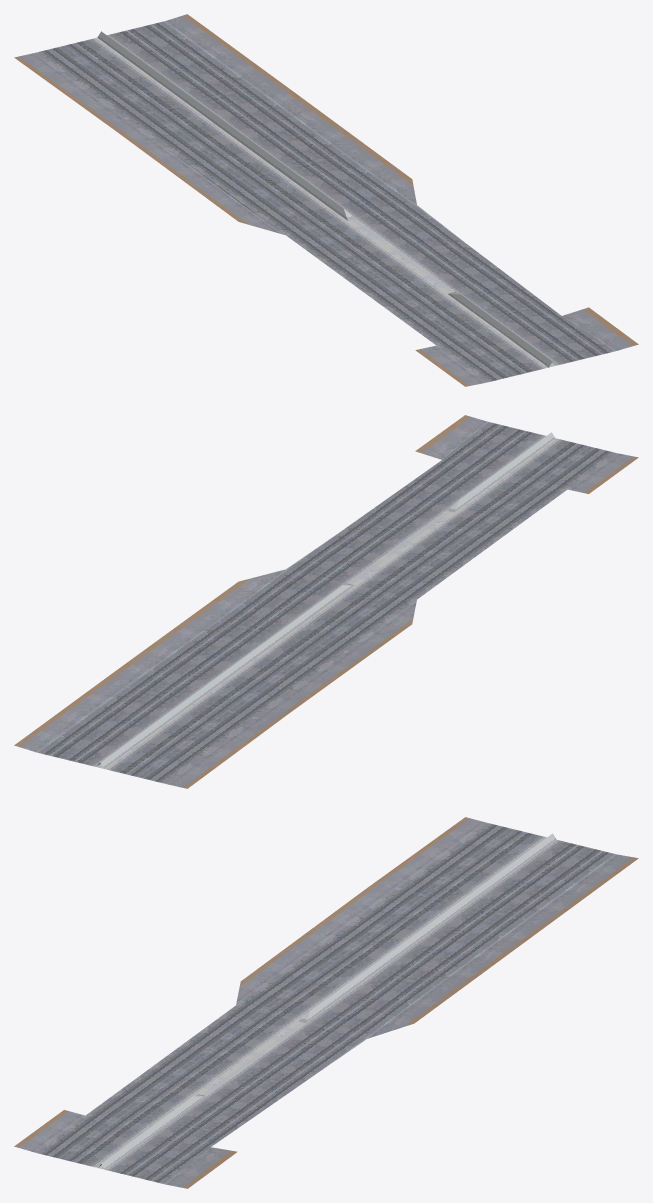
The model's file is lodassedge14.obj.
3 renders of one model, top to bottom at view 1: azimuth 30°, elevation 25°; view 2: azimuth 150°, elevation 25°; view 3: azimuth 330°, elevation 25°, orthographic.
Visible parts, largest first — view 1: lodasSedge14; view 2: lodasSedge14; view 3: lodasSedge14.
Boxes of the visible parts, box(x1,y1,x2,y2) form: lodasSedge14: box(14, 14, 638, 386); lodasSedge14: box(14, 415, 638, 788); lodasSedge14: box(14, 817, 638, 1188).
Bounding box in the file's own units: 40 × 1.37 × 180.
Materials: 1 (1 with a texture image).
